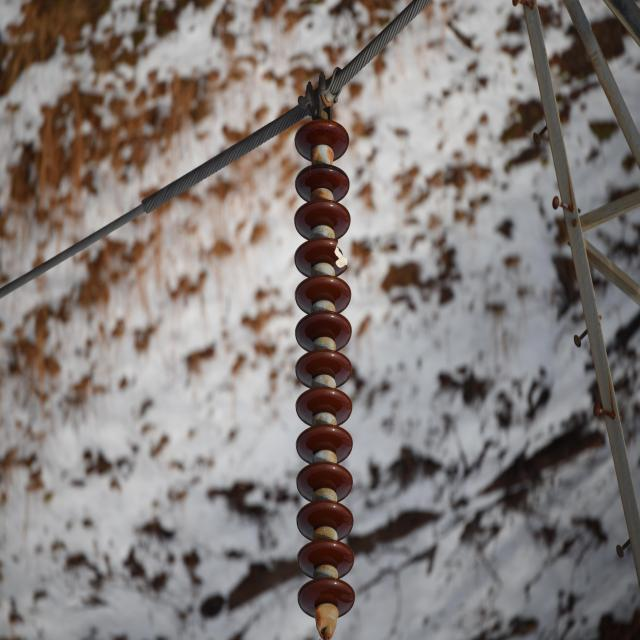broken: (330, 234, 350, 271)
insulator: (294, 119, 357, 621)
